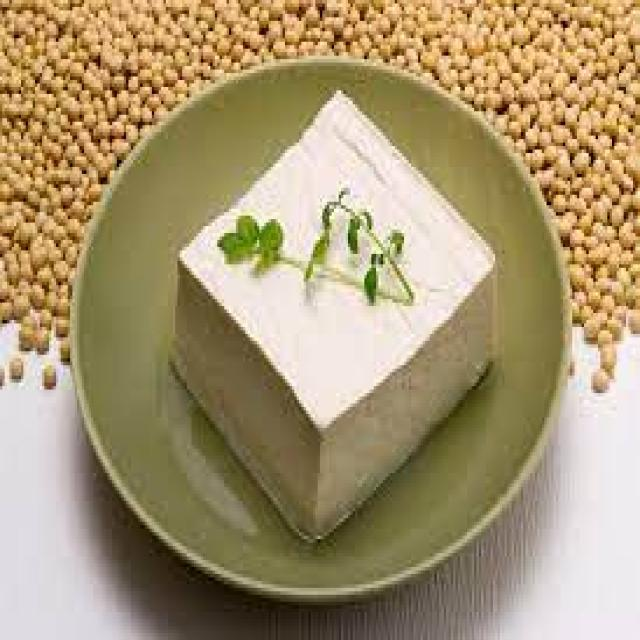tofu: (158, 92, 521, 564)
